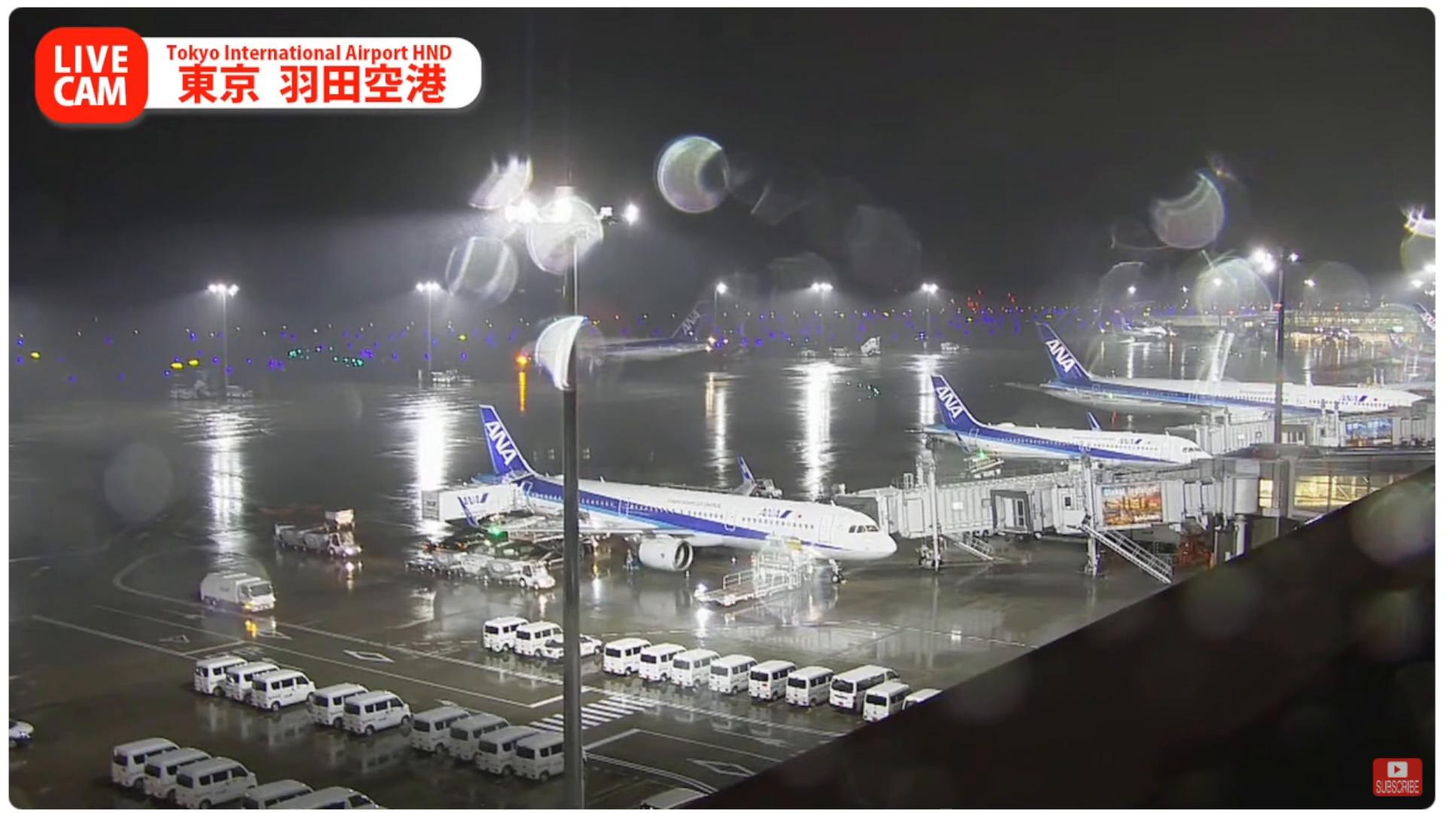Aerobridge: (837, 461, 1193, 540), (988, 473, 1227, 539)
Airplane: (461, 407, 899, 586)
Baggage truck: (199, 568, 276, 614)
Catering: (421, 483, 529, 555)
Dolly: (274, 506, 357, 555), (408, 550, 519, 586)
JCPL: (692, 533, 821, 610)
Skyloader: (493, 513, 597, 570)
Tractor: (327, 529, 363, 558), (518, 565, 556, 592)
Window: (1289, 476, 1414, 509)
